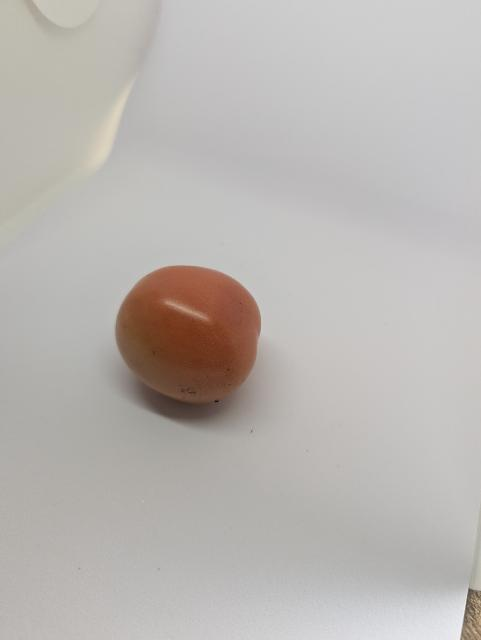red: (103, 257, 271, 413)
